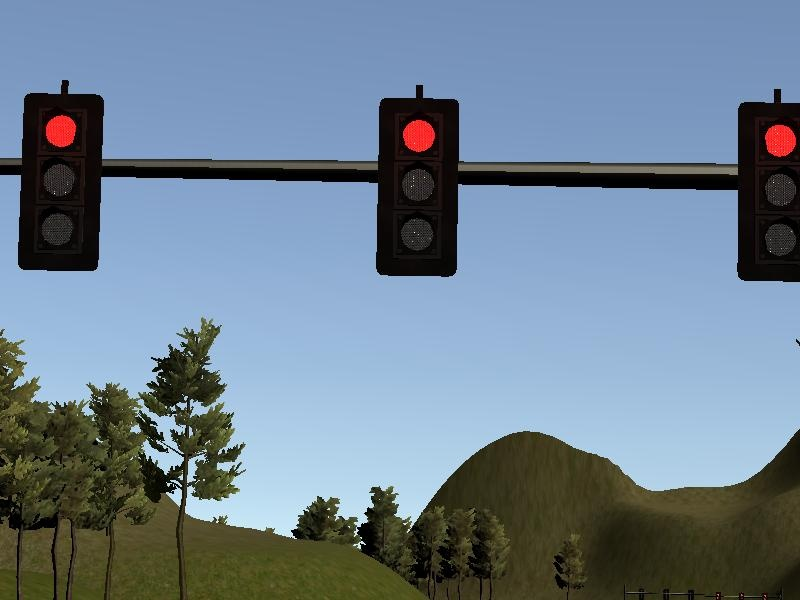red: (368, 93, 465, 279), (15, 87, 109, 275), (731, 93, 800, 291)
